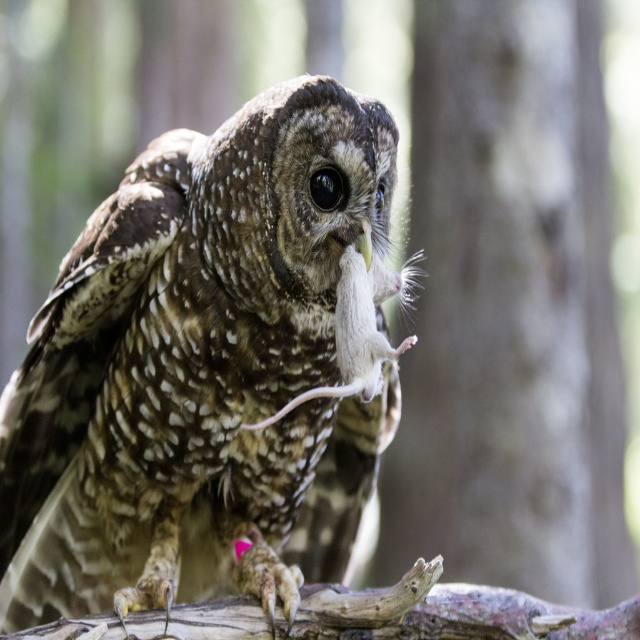Owl: (0, 70, 430, 634)
